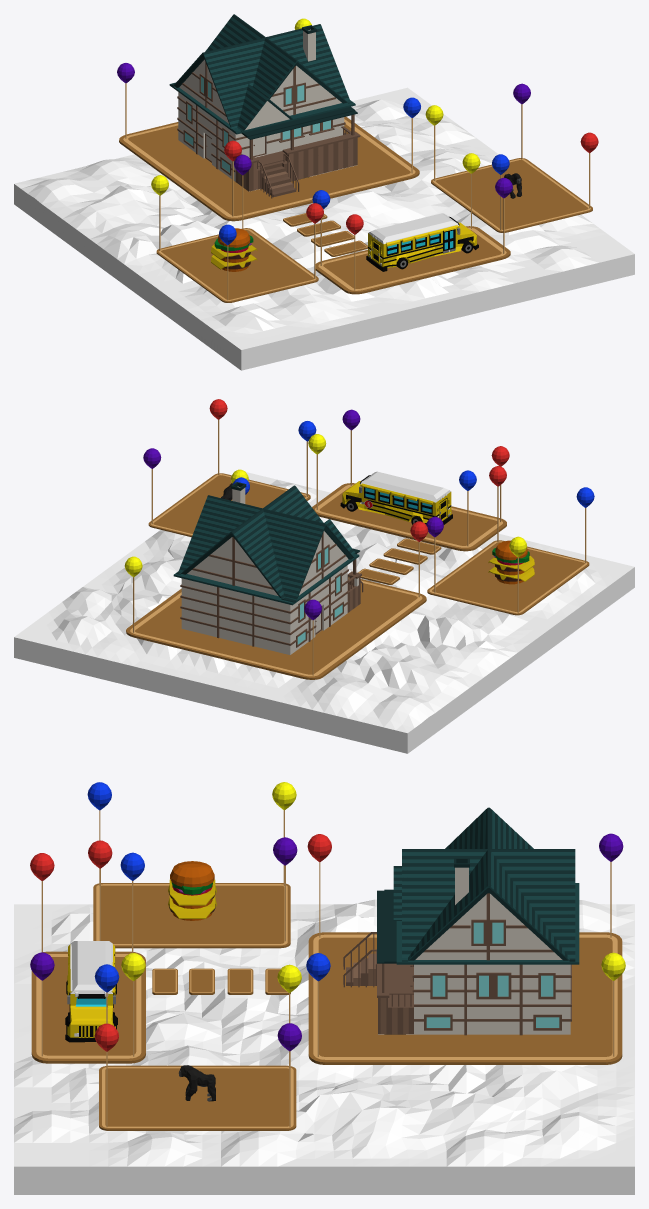
3 views of the same model, one above another, from view 1: azimuth 30°, elevation 25°; view 2: azimuth 150°, elevation 25°; view 3: azimuth 270°, elevation 25° (orthographic). The views are drawn at different scales.
Visible parts, largest first — view 1: Cube.013, Cube.793, VEHICLES_SCHOOL_BUS, OBJRANDOM_HAMBURGER; view 2: Cube.013, Cube.793, VEHICLES_SCHOOL_BUS, OBJRANDOM_HAMBURGER; view 3: Cube.013, Cube.793, VEHICLES_SCHOOL_BUS, OBJRANDOM_HAMBURGER, ANIMAL_GORILA.
Boxes of the visible parts, x1,y1,x2,y2 form: Cube.013: [14, 18, 634, 370]; Cube.793: [169, 14, 360, 198]; VEHICLES_SCHOOL_BUS: [366, 213, 478, 271]; OBJRANDOM_HAMBURGER: [211, 228, 257, 271]; Cube.013: [14, 399, 634, 753]; Cube.793: [173, 482, 363, 654]; VEHICLES_SCHOOL_BUS: [340, 471, 452, 524]; OBJRANDOM_HAMBURGER: [488, 540, 534, 584]; Cube.013: [14, 782, 634, 1194]; Cube.793: [343, 807, 579, 1035]; VEHICLES_SCHOOL_BUS: [65, 941, 117, 1042]; OBJRANDOM_HAMBURGER: [168, 861, 216, 920]; ANIMAL_GORILA: [178, 1065, 215, 1101].
Size of the model in its own units: 4000 by 1688 by 4000.
37 materials, 2 textured.
